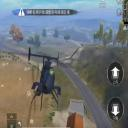helicopter: (28, 48, 63, 115)
